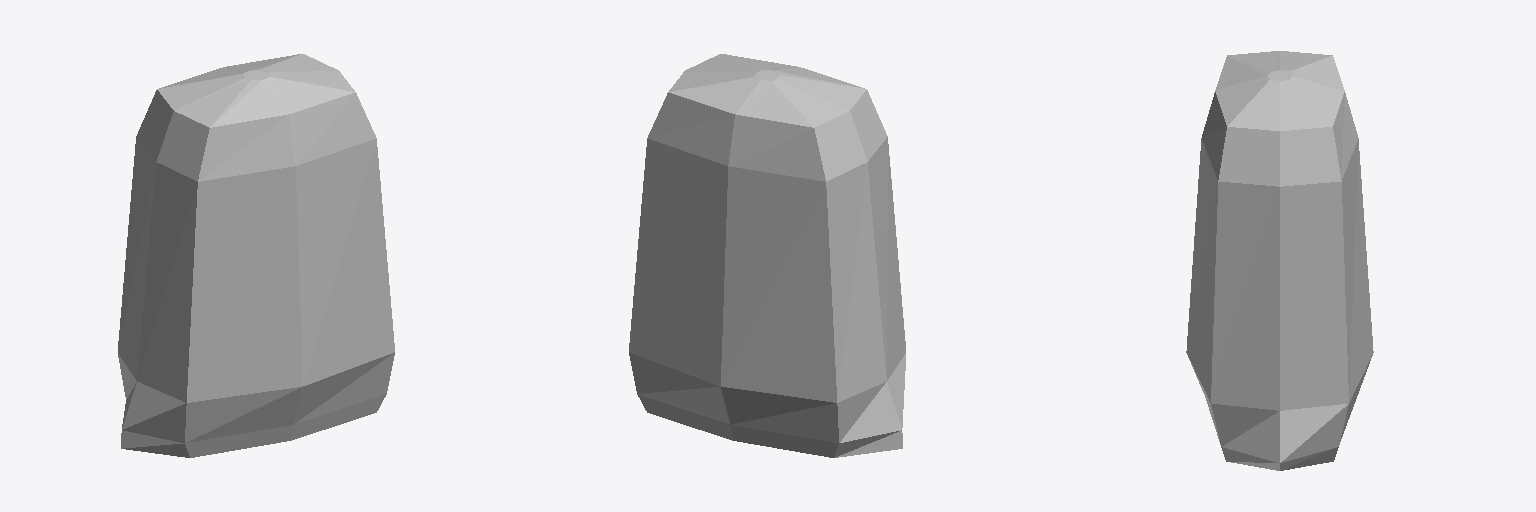
Rendered from laundryBag1.obj.
3 views of the same model, side by side, from view 1: azimuth 30°, elevation 25°; view 2: azimuth 150°, elevation 25°; view 3: azimuth 270°, elevation 25° (orthographic).
Visible parts, largest first — view 1: Cube.002_Cube.003; view 2: Cube.002_Cube.003; view 3: Cube.002_Cube.003.
Part boxes in pixels (bbox=[...]): Cube.002_Cube.003: bbox=[118, 54, 394, 457]; Cube.002_Cube.003: bbox=[629, 54, 905, 457]; Cube.002_Cube.003: bbox=[1186, 51, 1373, 470].
Bounding box in the file's own units: 2.68 × 3.42 × 1.61.